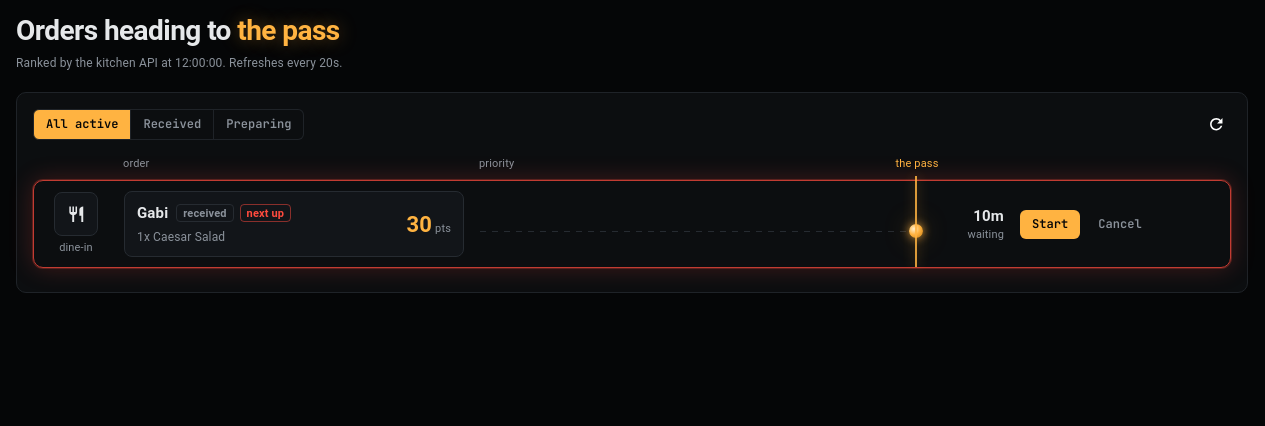
Test: KitchenDisplay contract with the API › a 409 INVALID_TRANSITION from an action is shown on screen
Click the button "Start".
click(1050, 224)  # box [1020,210,1080,239]
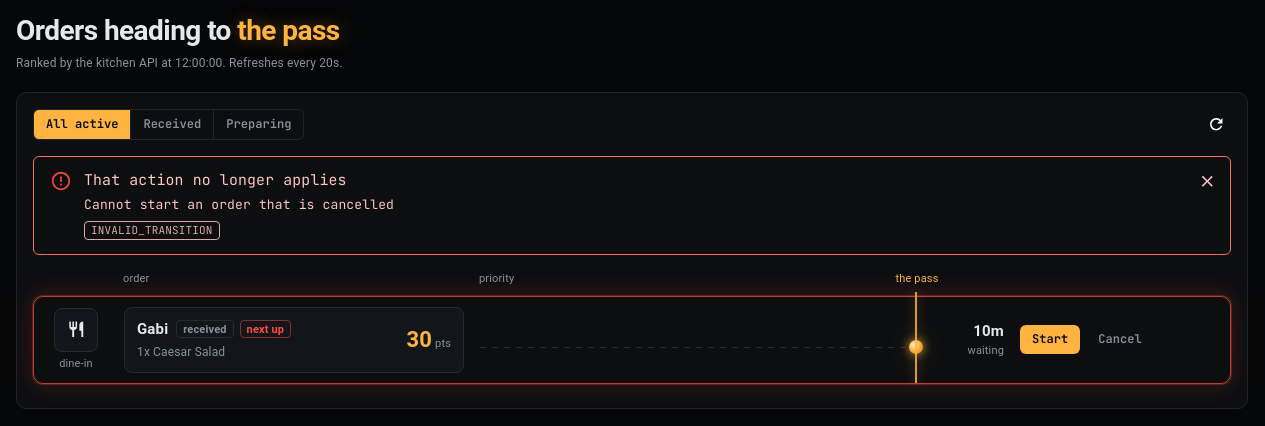
Check: the text "That action no longer applies" is shown, box [84,170,347,189]
Check: the text "Cannot start an order that is cancelled" is shown, box [84,196,394,215]
Check: the text "INVALID_TRANSITION" is shown, box [84,221,220,240]
